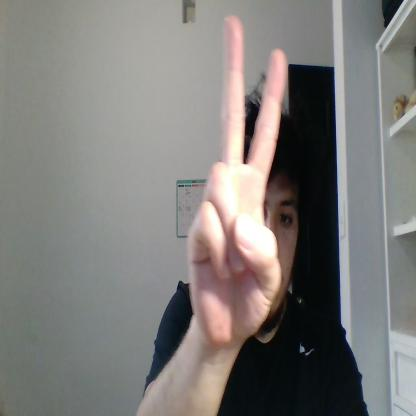V: (187, 16, 288, 347)
